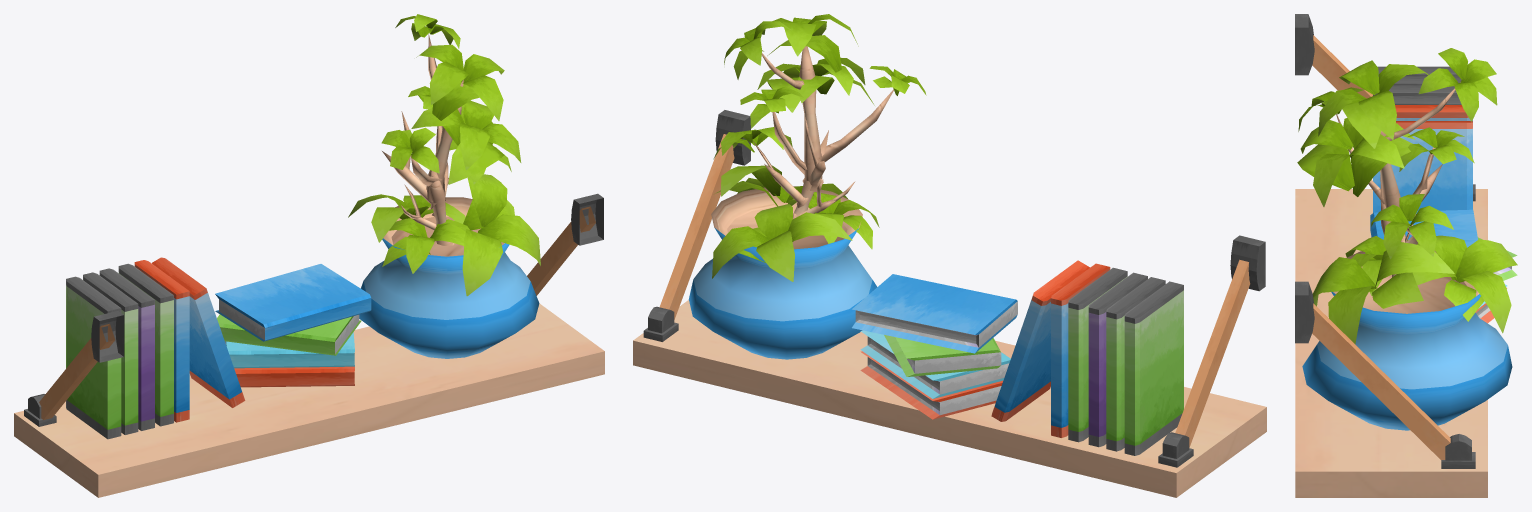
Rendered from Obj_TopShelf.gltf.
3 views of the same model, side by side, from view 1: azimuth 30°, elevation 25°; view 2: azimuth 150°, elevation 25°; view 3: azimuth 270°, elevation 25° (orthographic). The views are drawn at different scales.
Parts seen in each view (by area): view 1: Obj_TopShelf; view 2: Obj_TopShelf; view 3: Obj_TopShelf.
Part boxes in pixels (left/top/right/bottom): Obj_TopShelf: left=14, top=14, right=604, bottom=497; Obj_TopShelf: left=633, top=14, right=1266, bottom=497; Obj_TopShelf: left=1295, top=14, right=1517, bottom=497.
Size of what is drawn, in the model's own units: 1.92 by 1.21 by 0.6414.
Materials: 1 (1 with a texture image).
